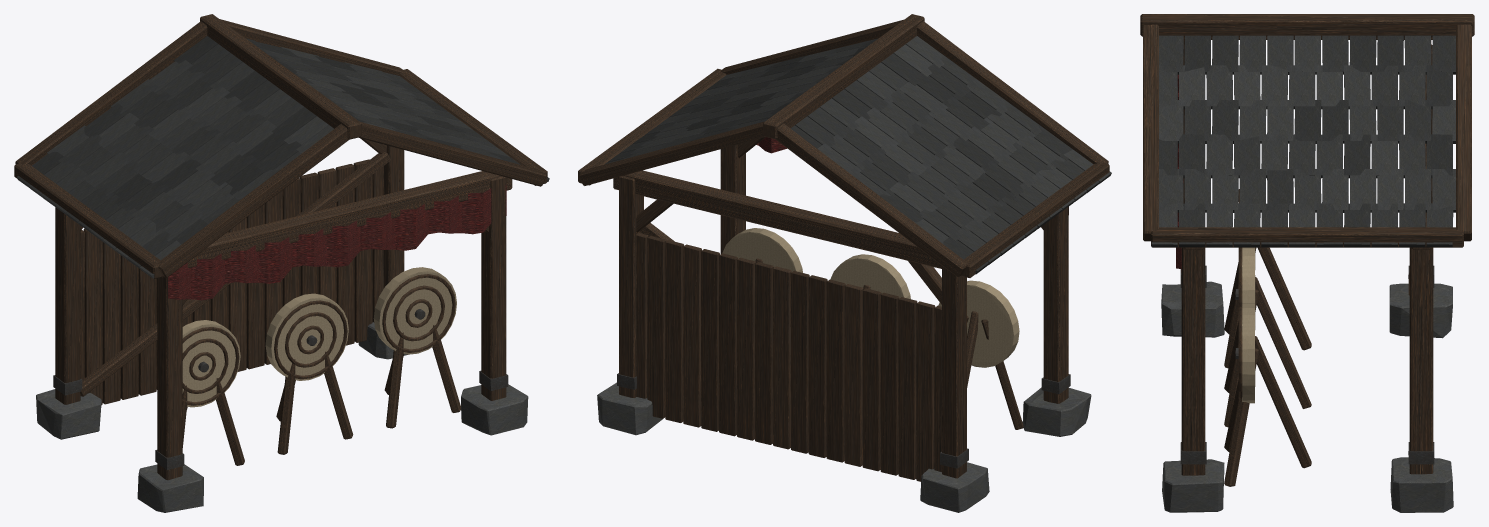
The model's file is barrosan_training_pavilion_lod1.glb.
3 renders of one model, left to right at view 1: azimuth 30°, elevation 25°; view 2: azimuth 150°, elevation 25°; view 3: azimuth 270°, elevation 25°, orthographic. The views are drawn at different scales.
Parts seen in each view (by area): view 1: barrosan_training_pavilion; view 2: barrosan_training_pavilion; view 3: barrosan_training_pavilion.
Part boxes in pixels (left/top/right/bottom): barrosan_training_pavilion: left=14, top=14, right=549, bottom=512; barrosan_training_pavilion: left=578, top=14, right=1111, bottom=512; barrosan_training_pavilion: left=1140, top=14, right=1474, bottom=512.
Bounding box in the file's own units: 5.41 × 4.62 × 3.52.
5 materials, 5 textured.
